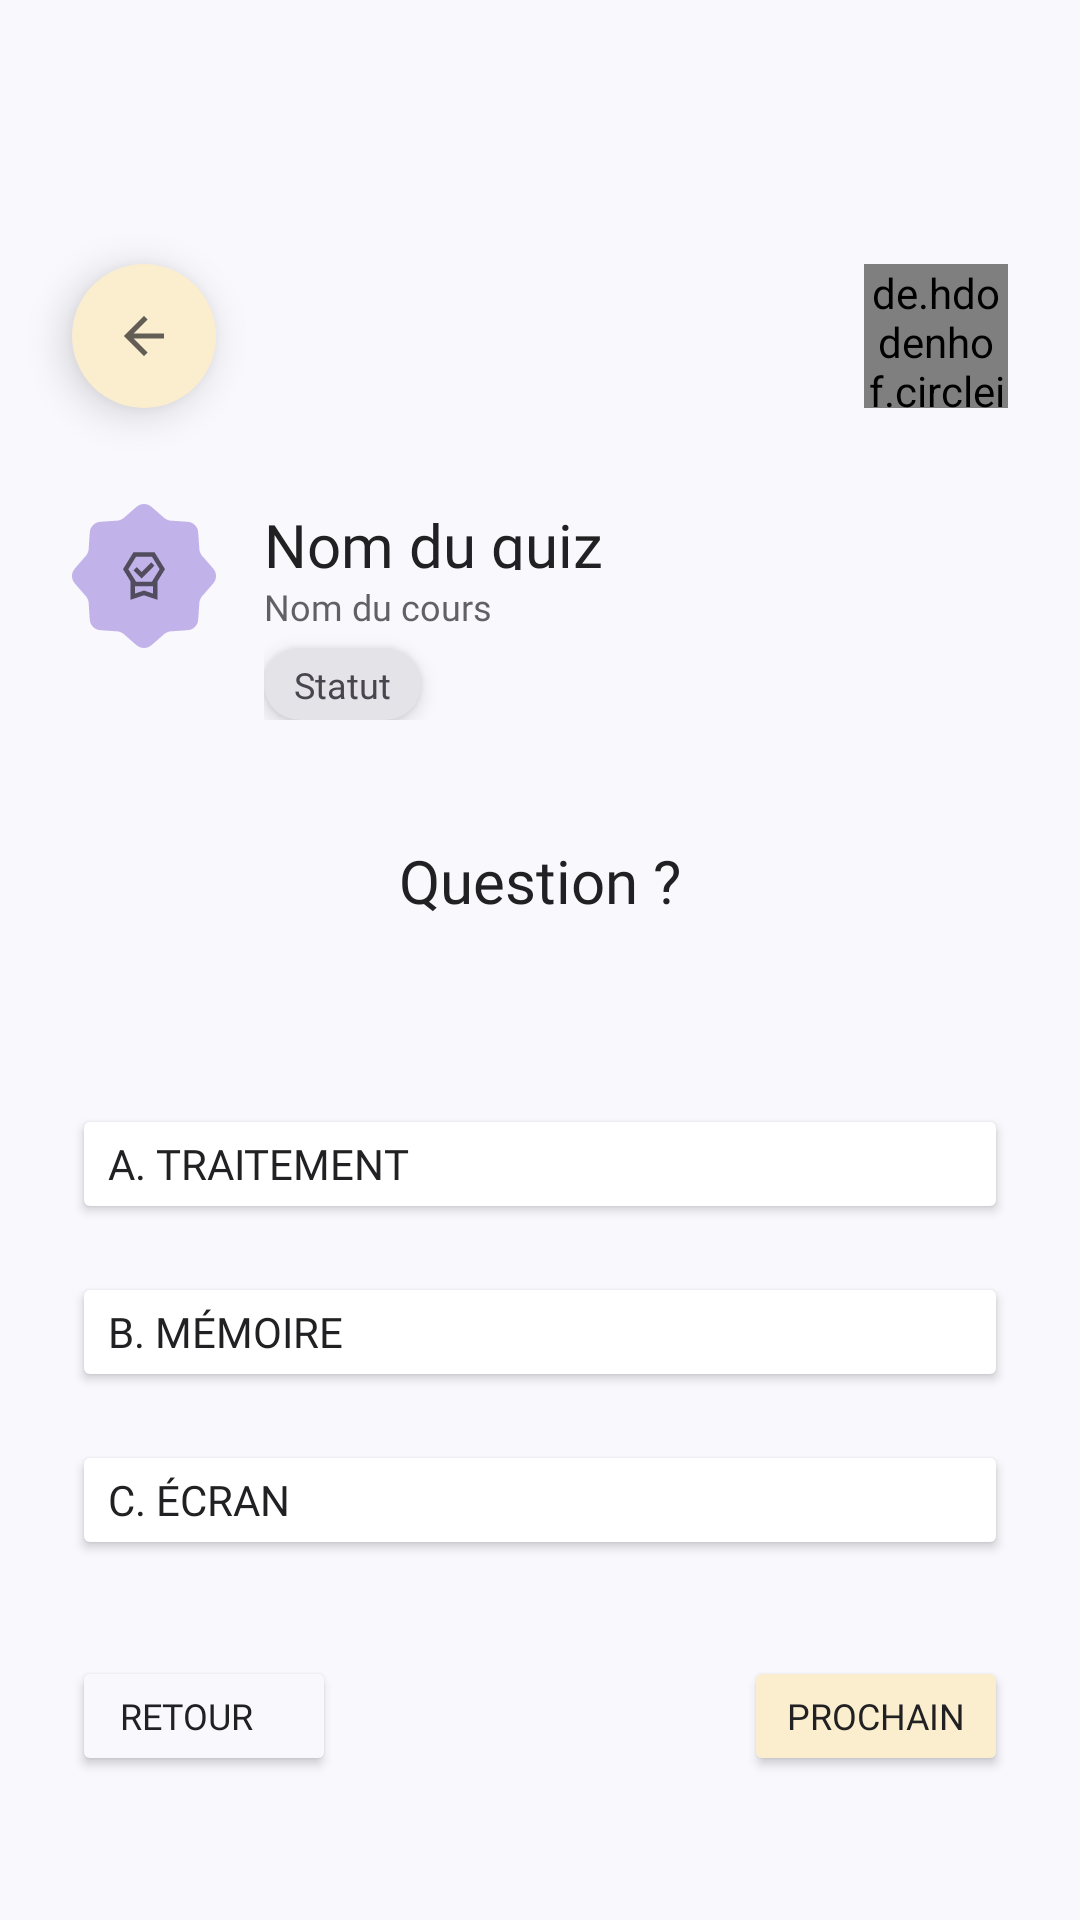

Screen size 1080w x 1920h. Icon name, then its center in pixels as [x,y]:
fleche gauche: [144,336]
